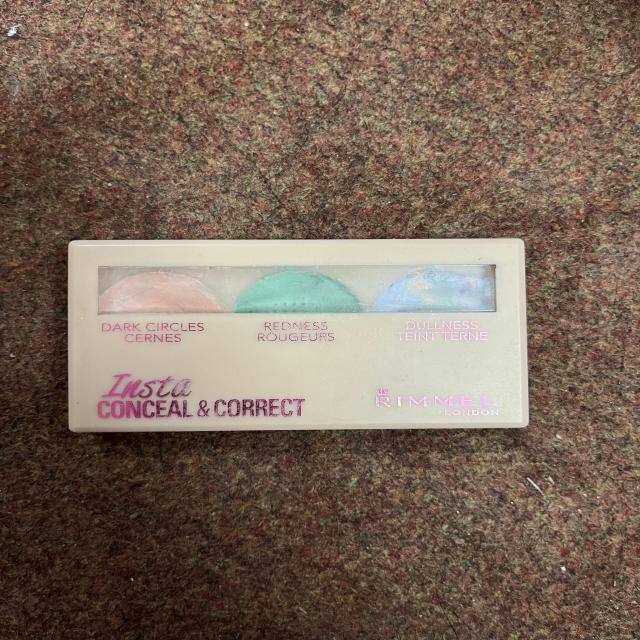eye shade: (90, 266, 238, 322), (238, 267, 370, 321), (373, 267, 501, 318)
